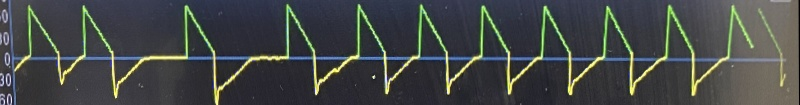normal_flow: (14, 0, 753, 105)
